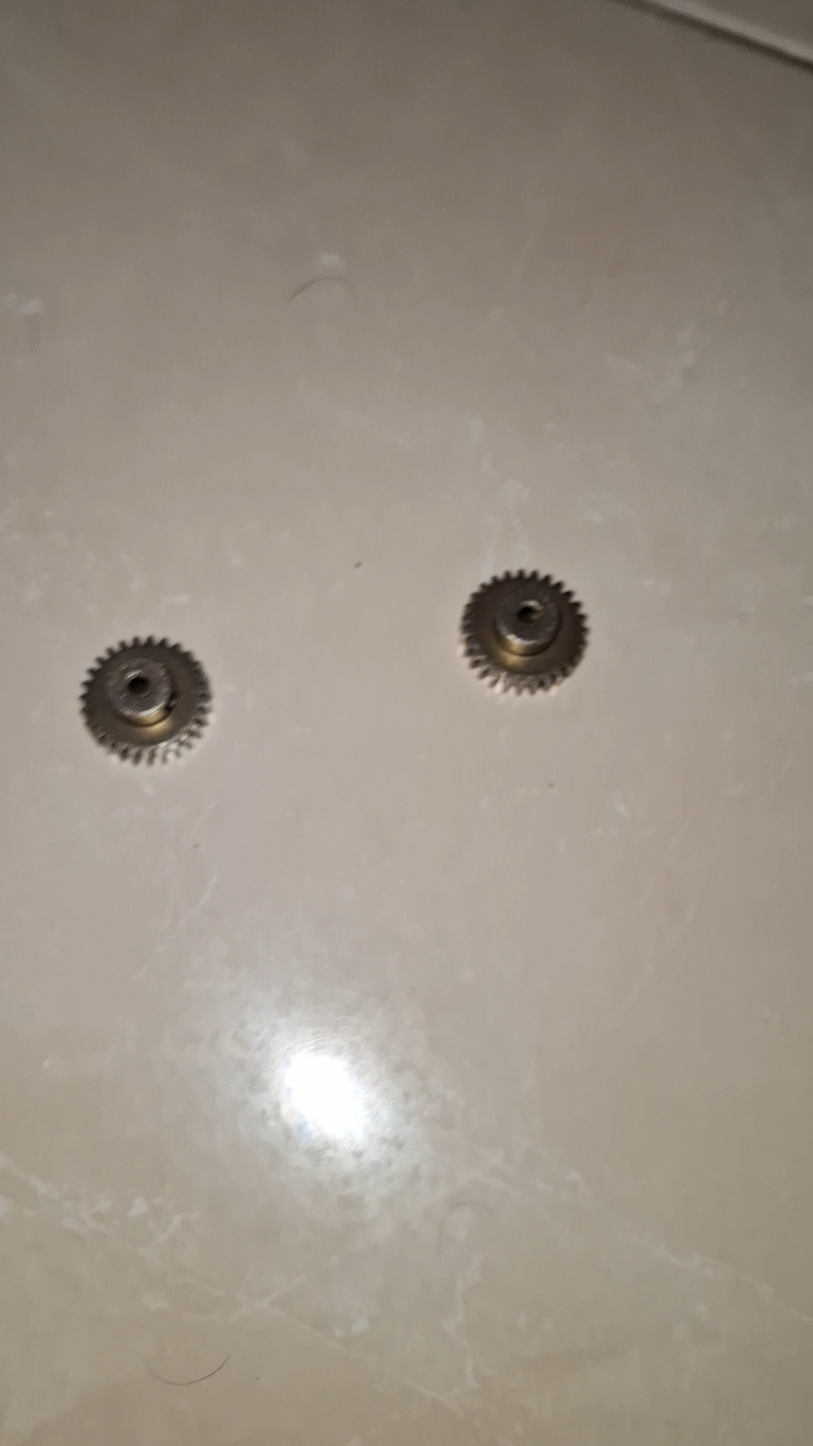spur gear: (81, 637, 210, 763), (461, 572, 587, 692)
